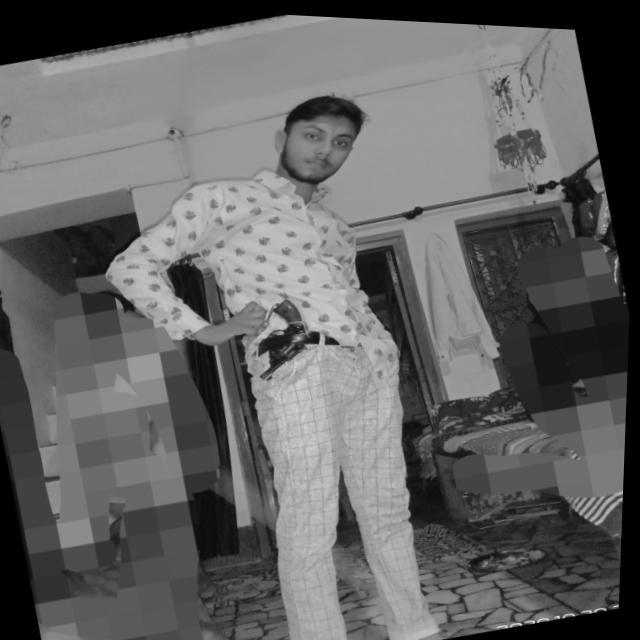weapon: (243, 288, 324, 382)
